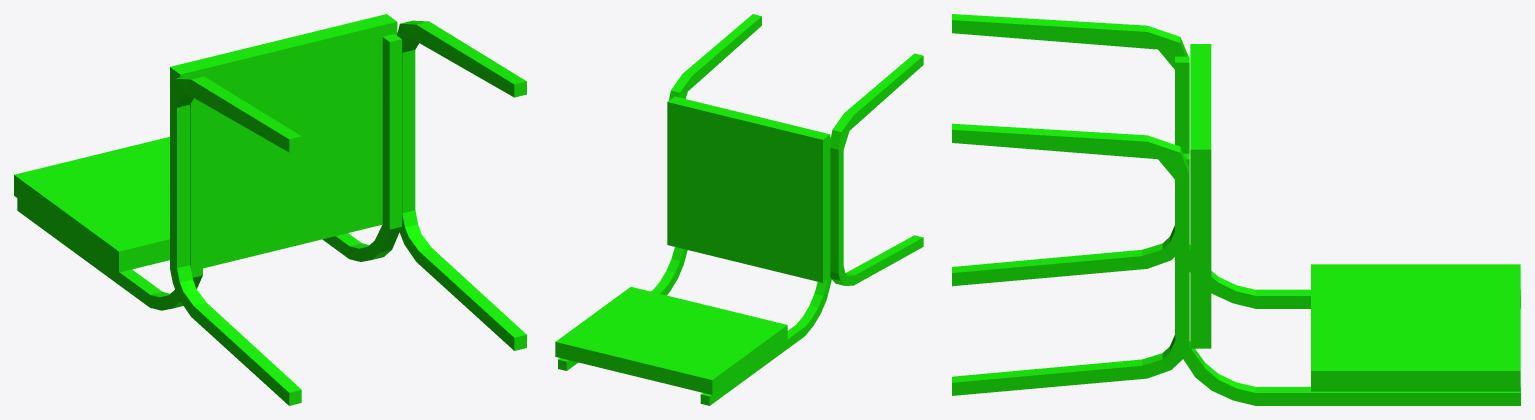
The model's file is SM_Chair_01_Collider.fbx.
3 renders of one model, left to right at view 1: azimuth 30°, elevation 25°; view 2: azimuth 150°, elevation 25°; view 3: azimuth 270°, elevation 25°, orthographic. The views are drawn at different scales.
Parts seen in each view (by area): view 1: SM_Chair_01_Collider; view 2: SM_Chair_01_Collider; view 3: SM_Chair_01_Collider.
Boxes of the visible parts, bbox=[...] form: SM_Chair_01_Collider: bbox=[14, 14, 526, 405]; SM_Chair_01_Collider: bbox=[555, 14, 923, 405]; SM_Chair_01_Collider: bbox=[952, 14, 1520, 405].
Size of the model in its own units: 66.1 by 74.96 by 137.
